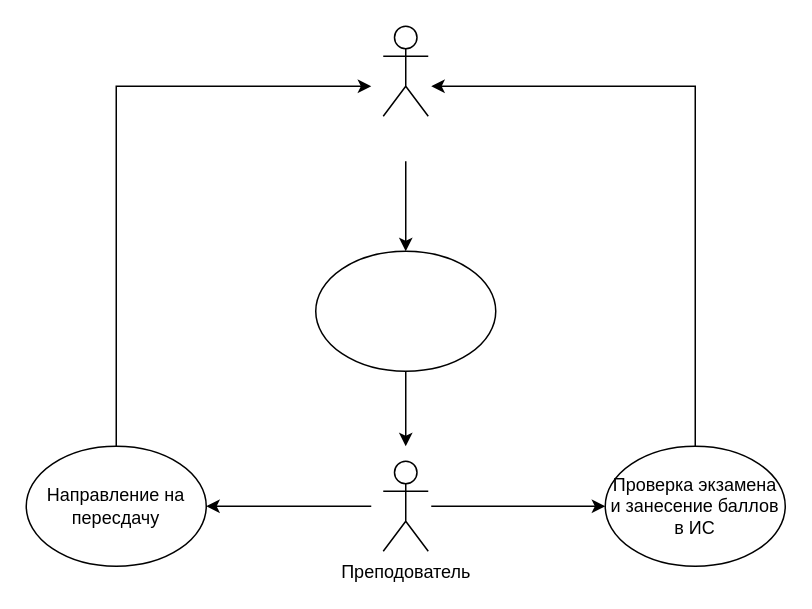
This 812x609 diagram has some shape labels left out. The centre of each missing label's shape, as x and y in pixels:
Сдача экзамена: (x=405, y=310)
Студент: (x=405, y=70)
